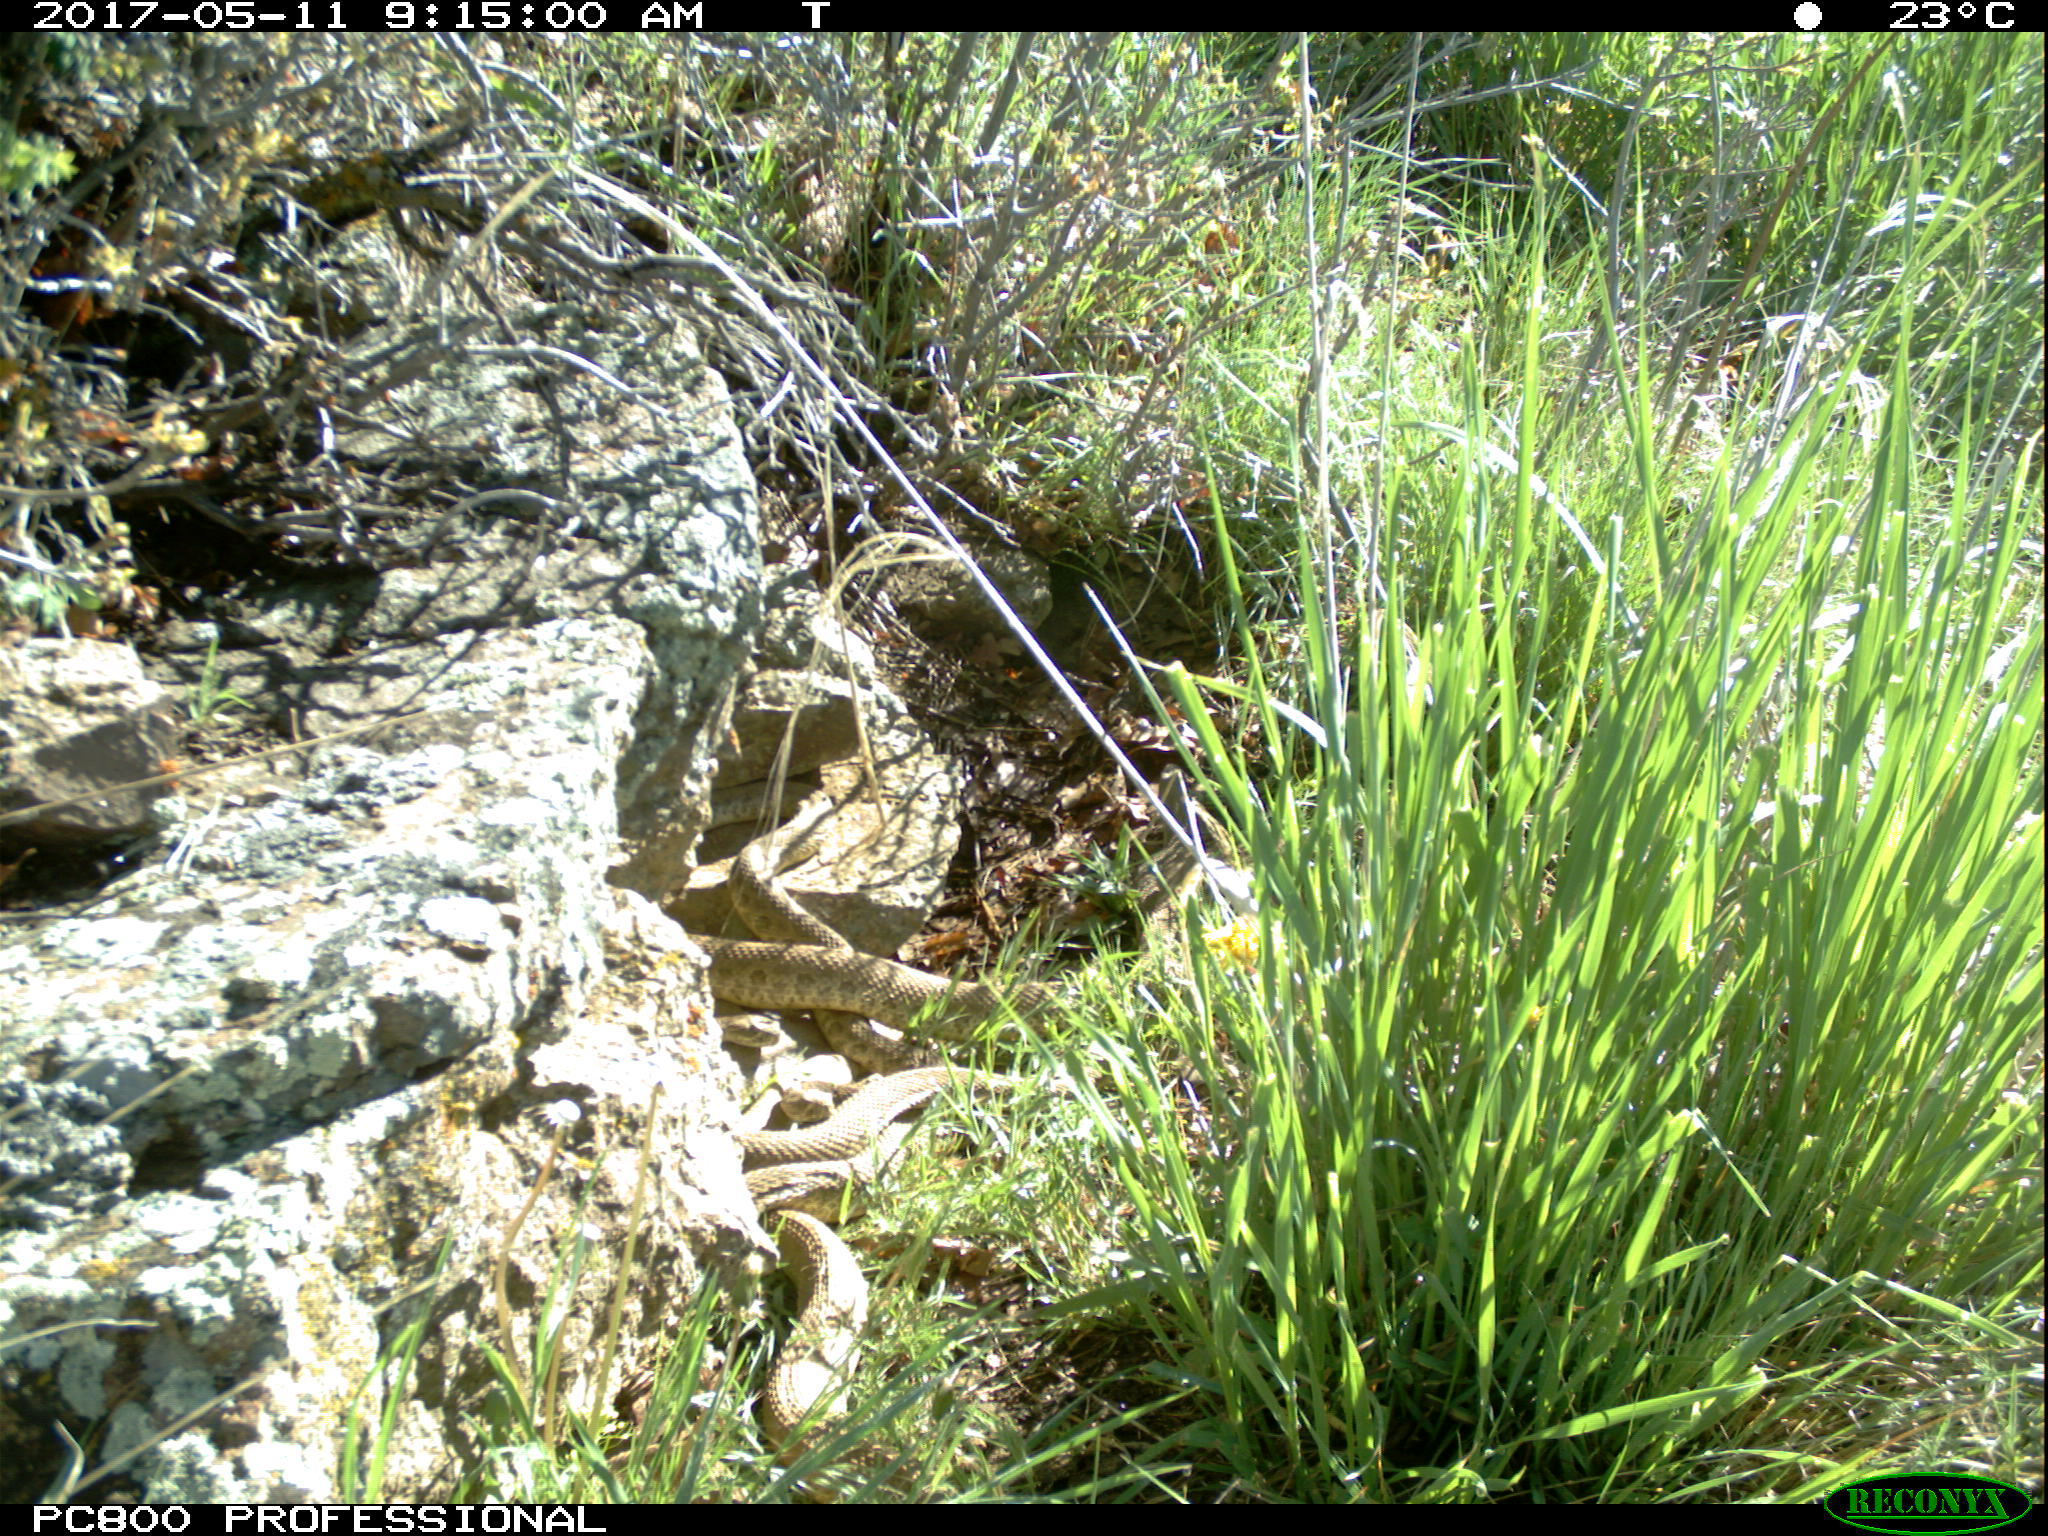snake: (739, 904, 1077, 1057), (735, 1157, 880, 1501), (685, 781, 893, 1012), (721, 1057, 1047, 1189)
